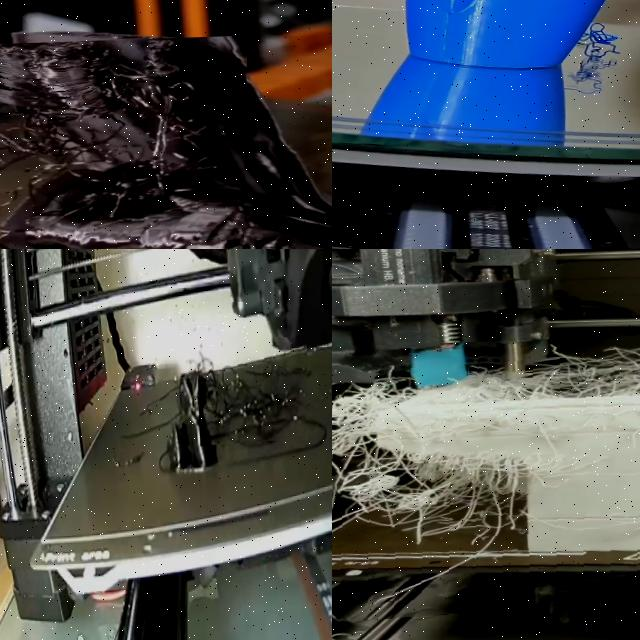spaghetti: (332, 326, 640, 626), (0, 35, 261, 249), (196, 336, 311, 446), (576, 15, 628, 62)
